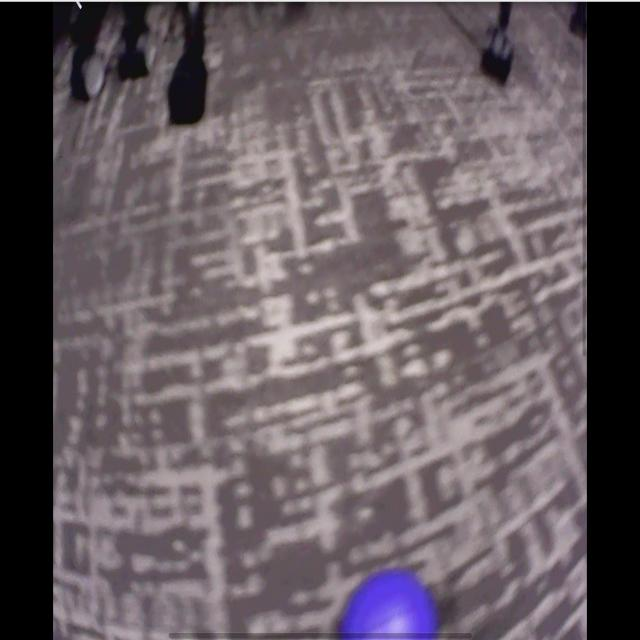ball: (341, 573, 435, 640)
